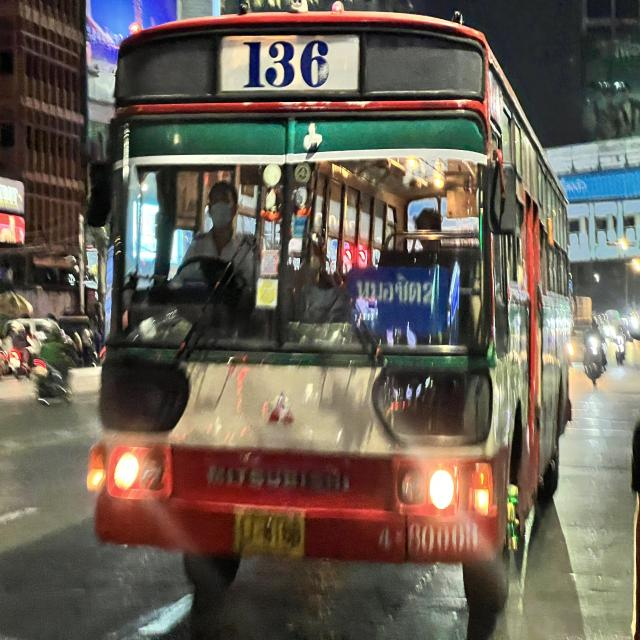BMTA-bus: (86, 12, 574, 640)
Bus-Line-Number: (217, 35, 366, 100)
Destination-Sign-Normal: (344, 266, 456, 340)
